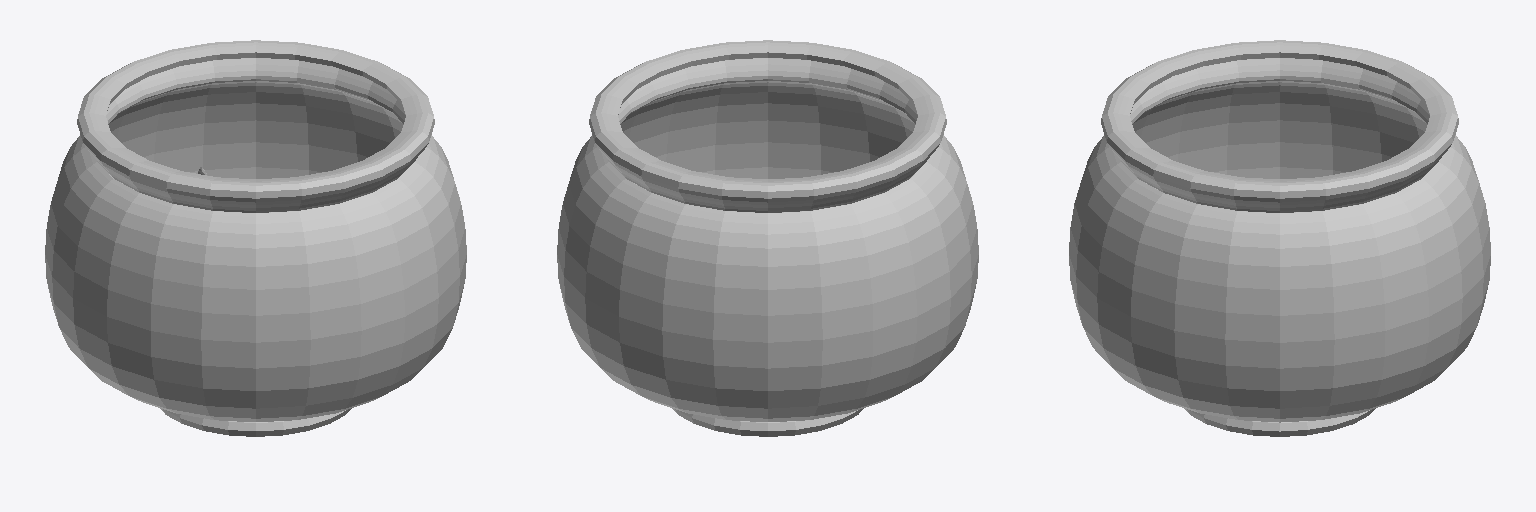
The model's file is FishBowl.obj.
3 views of the same model, side by side, from view 1: azimuth 30°, elevation 25°; view 2: azimuth 150°, elevation 25°; view 3: azimuth 270°, elevation 25° (orthographic).
Parts seen in each view (by area): view 1: revolvedSurface1; view 2: revolvedSurface1; view 3: revolvedSurface1.
Boxes of the visible parts, x1,y1,x2,y2 form: revolvedSurface1: [45, 40, 466, 436]; revolvedSurface1: [557, 40, 978, 436]; revolvedSurface1: [1069, 40, 1490, 436].
Bounding box in the file's own units: 18.61 × 13.91 × 18.61.